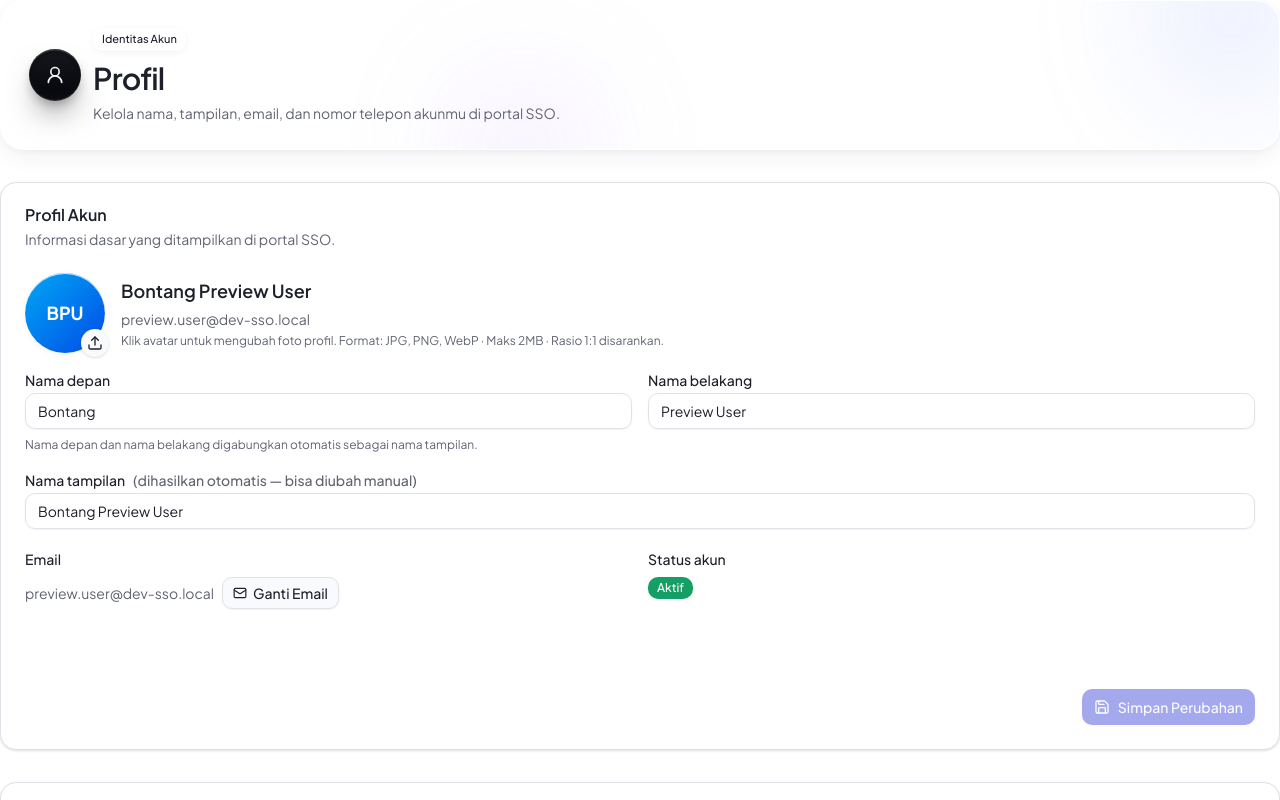
ProfilePage › submits updates, shows success feedback, and avoids duplicated security metadata
Replace the text in the field labelled "Nama depan" with "Bontang Baru" at [328, 411], box [25,393,632,429]
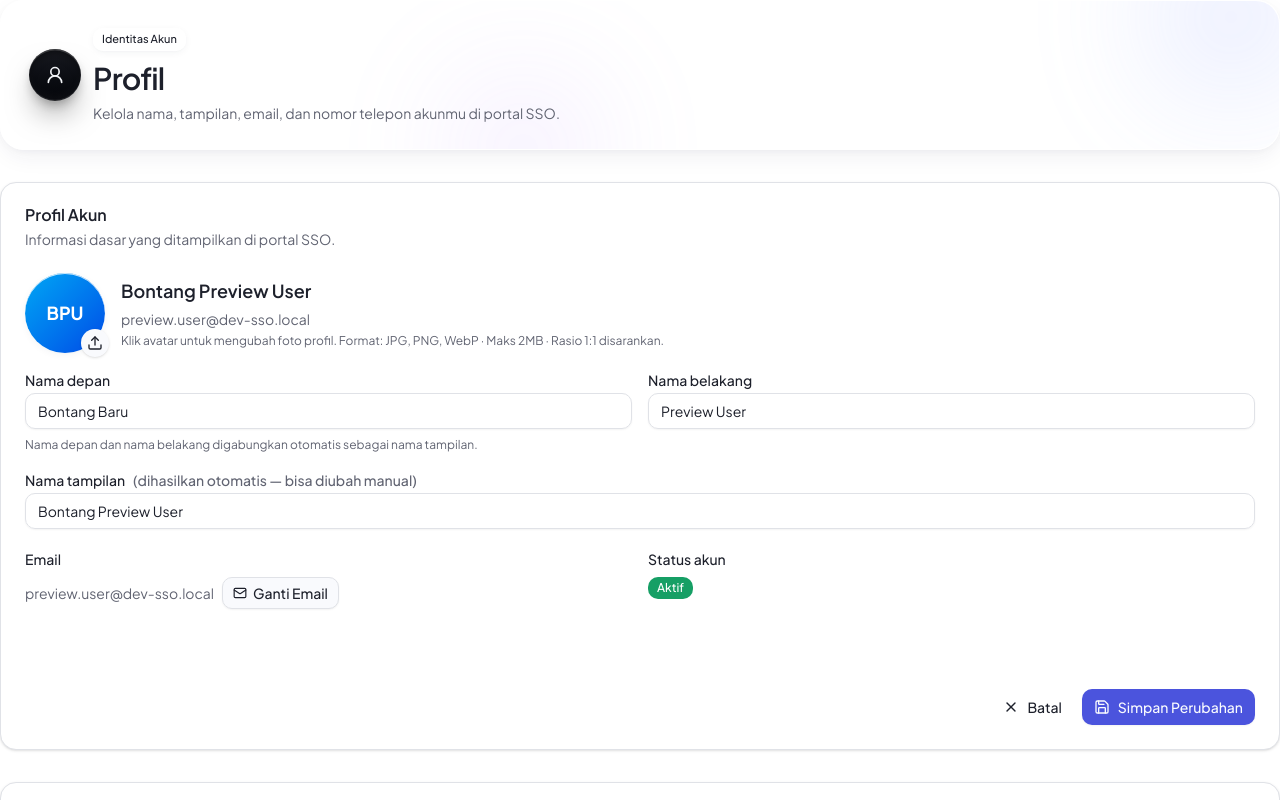
Submit the form, box [25,273,1255,725]
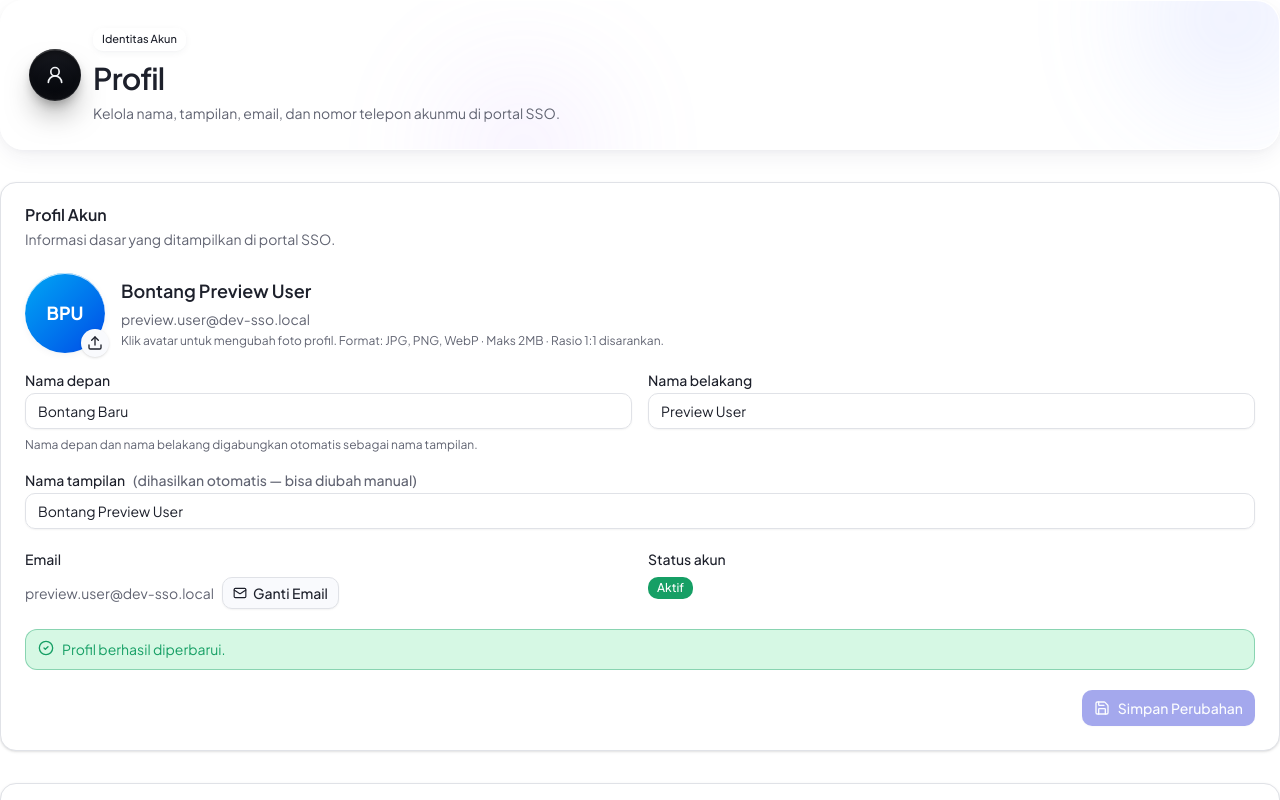
Now the text "Profil berhasil diperbarui" is shown, box [62,640,226,658]
